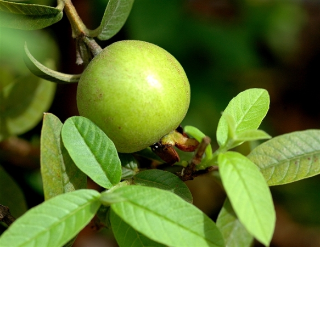oi: (73, 36, 196, 157)
